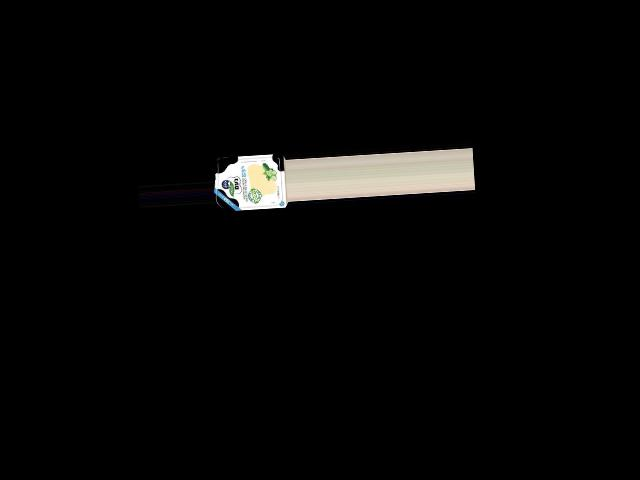cheese: (212, 150, 289, 215)
